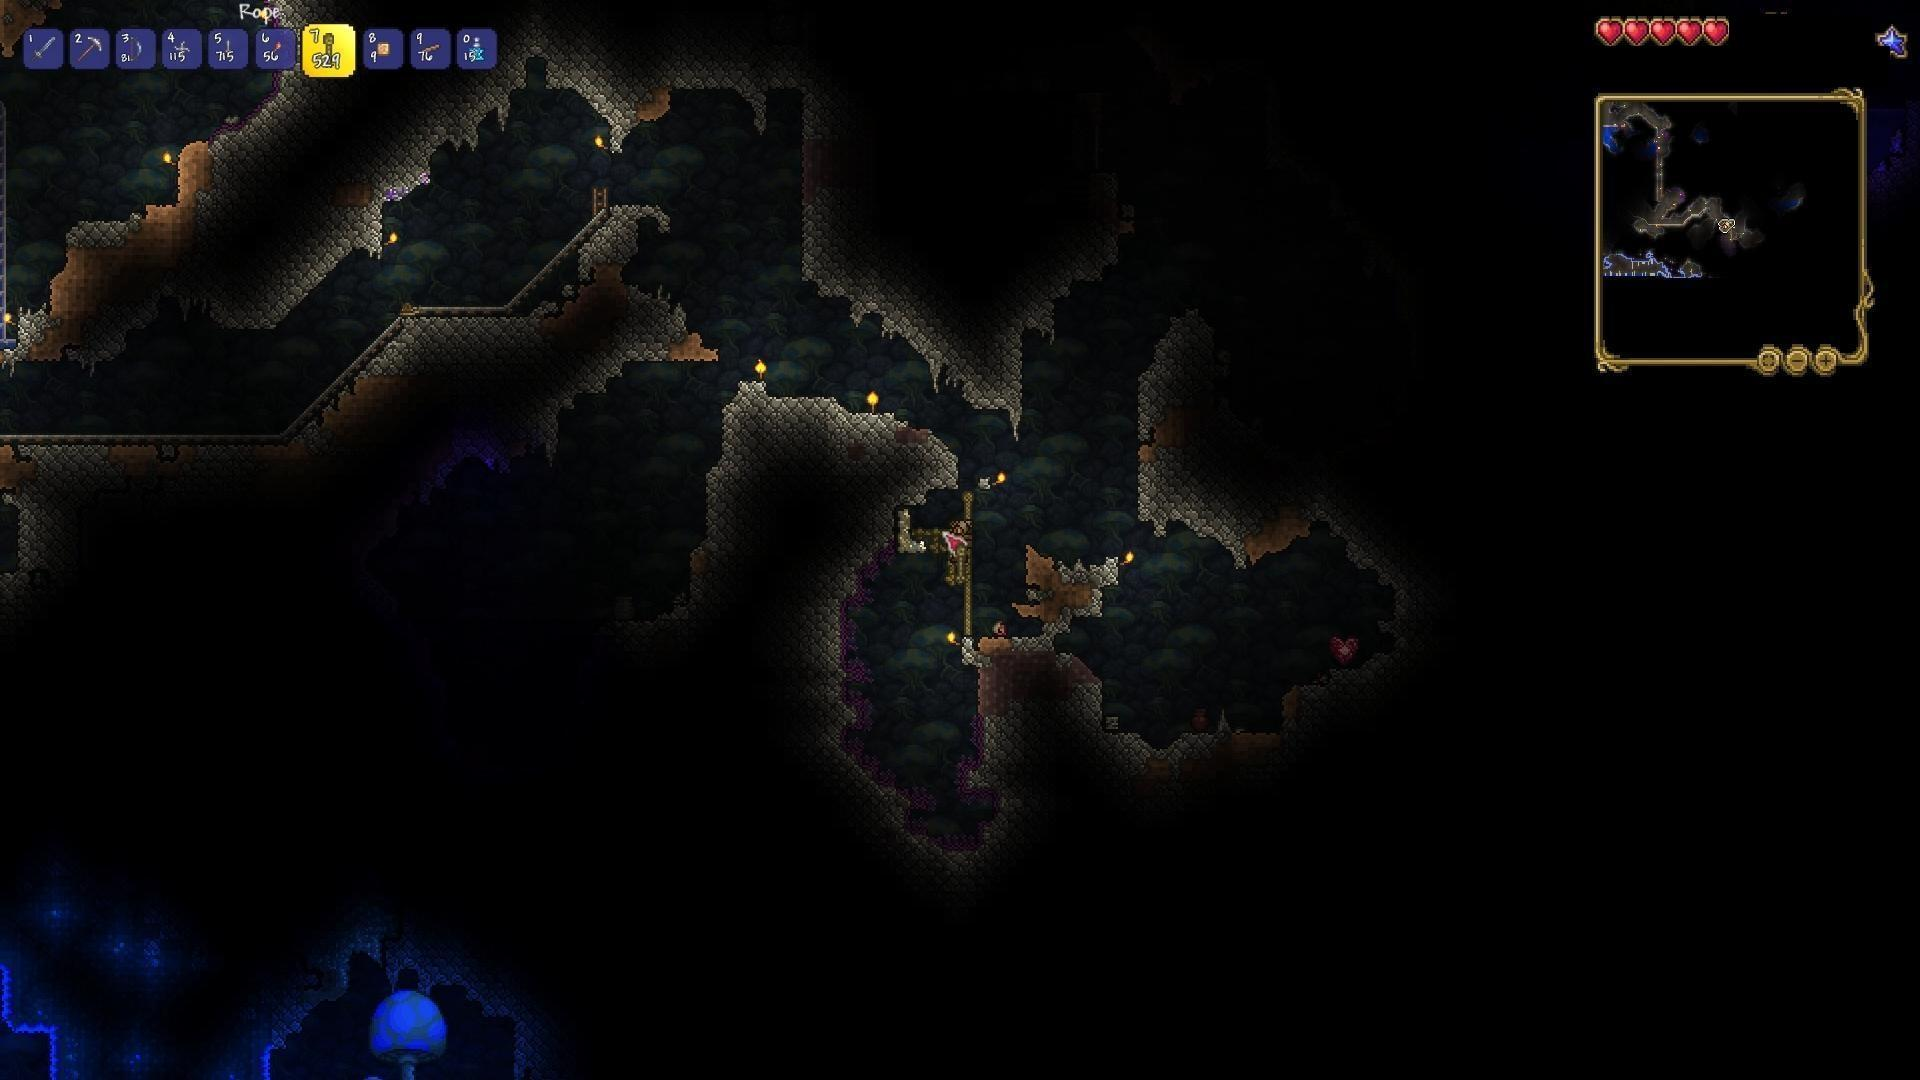heart: (1702, 17, 1733, 51), (1593, 16, 1626, 46), (1676, 15, 1704, 50), (1650, 16, 1676, 49), (1625, 15, 1651, 44)
stone: (694, 375, 861, 658), (196, 82, 451, 210), (202, 208, 378, 336), (553, 287, 684, 440), (841, 390, 956, 535), (1129, 360, 1213, 549), (885, 320, 1044, 415), (444, 65, 638, 138), (8, 433, 116, 560), (789, 204, 891, 327), (982, 680, 1100, 782), (382, 315, 555, 375), (568, 202, 682, 276), (667, 49, 804, 108), (1048, 208, 1131, 301), (1095, 732, 1197, 800), (51, 208, 137, 258), (1154, 307, 1221, 349)
